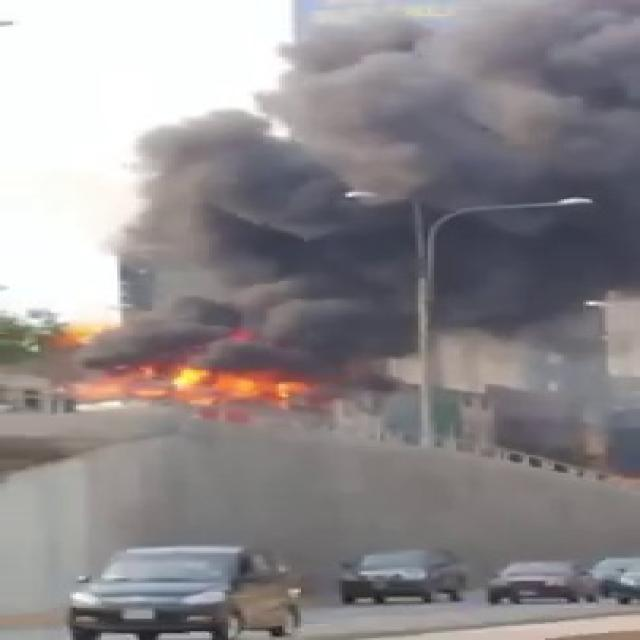Fire: (34, 302, 330, 410)
Smoke: (123, 5, 640, 360)
